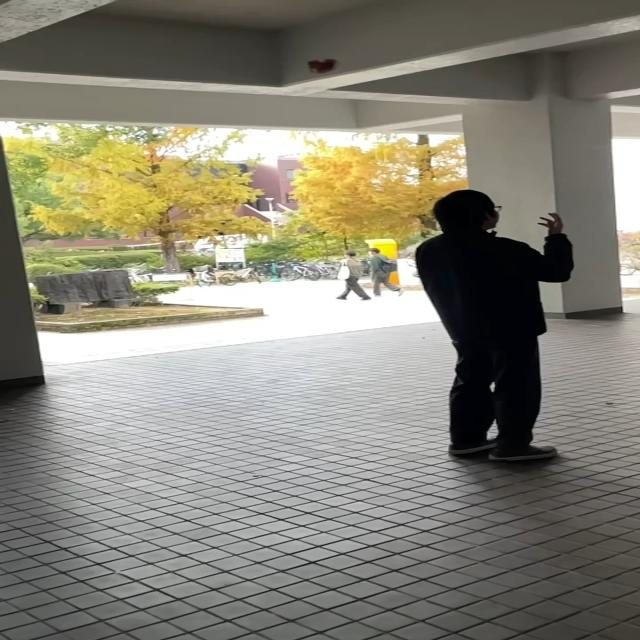paper: (308, 56, 341, 76)
